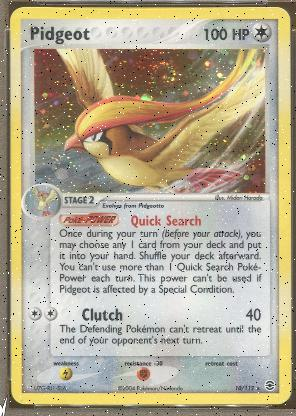Card: (4, 2, 292, 408)
